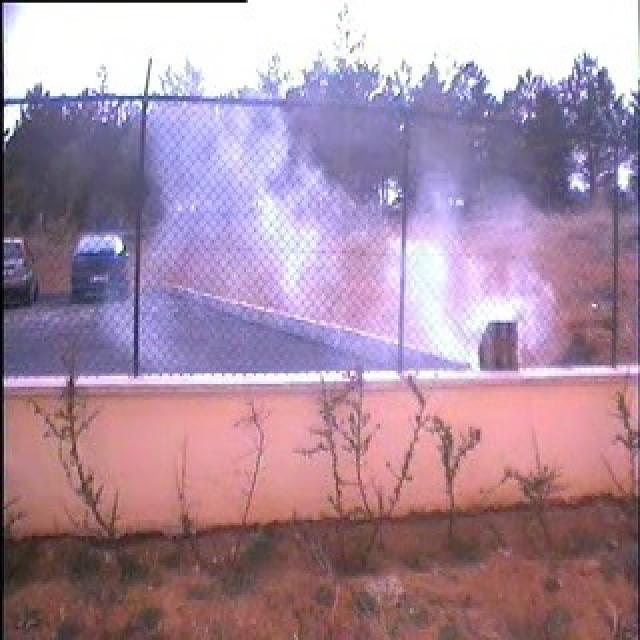Smoke: (144, 104, 354, 320), (388, 178, 554, 368)
